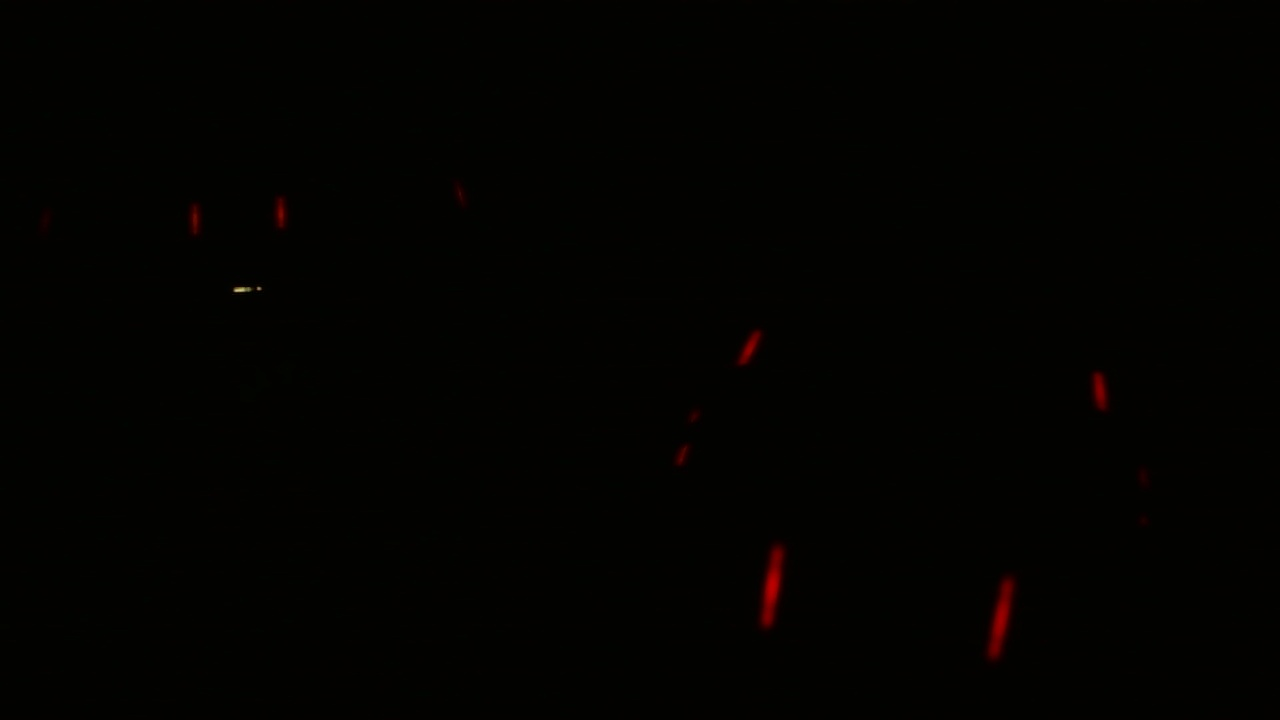pair1: (174, 188, 301, 254)
pair2: (746, 543, 1021, 663)
